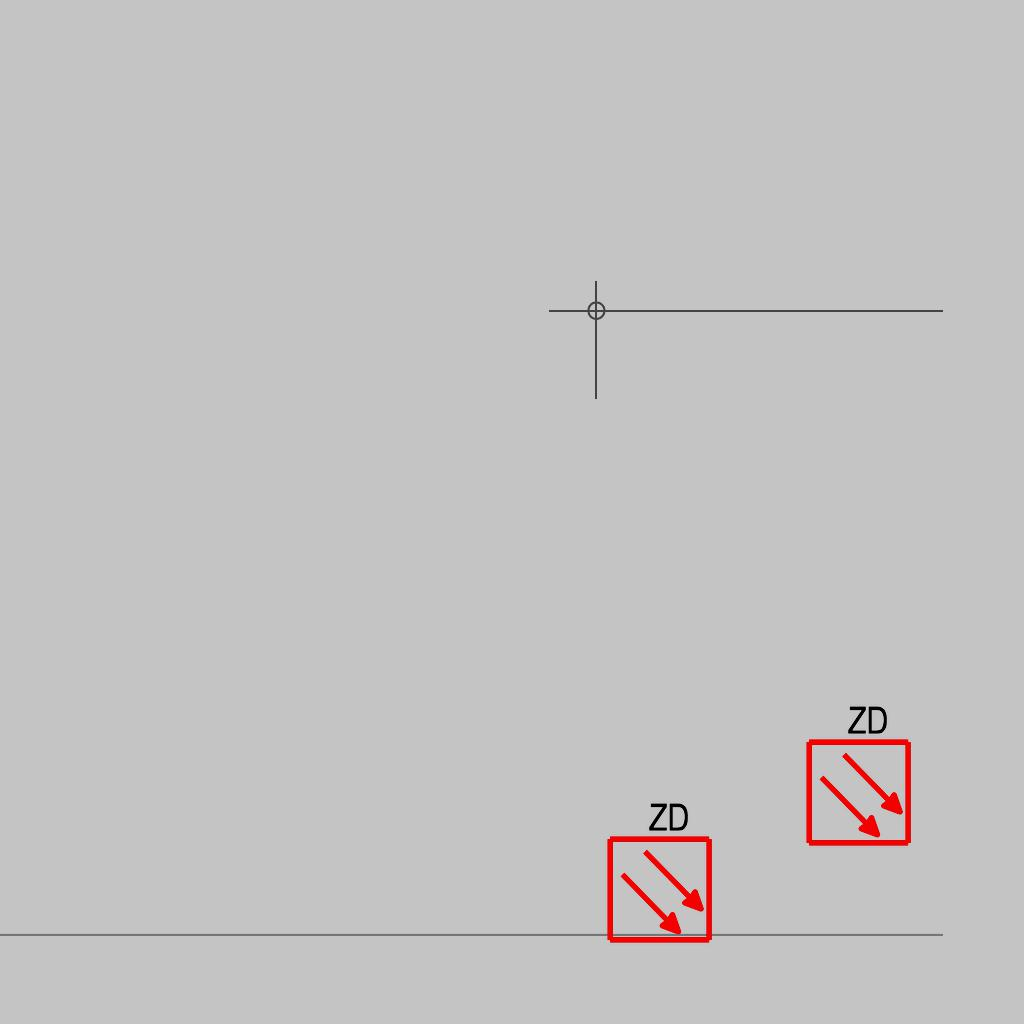ZD_Melder_in_Zwischendecke_mit_Revisionsoeffnung_mind_40_x_40_cm: (601, 796, 715, 945), (800, 699, 914, 848)
